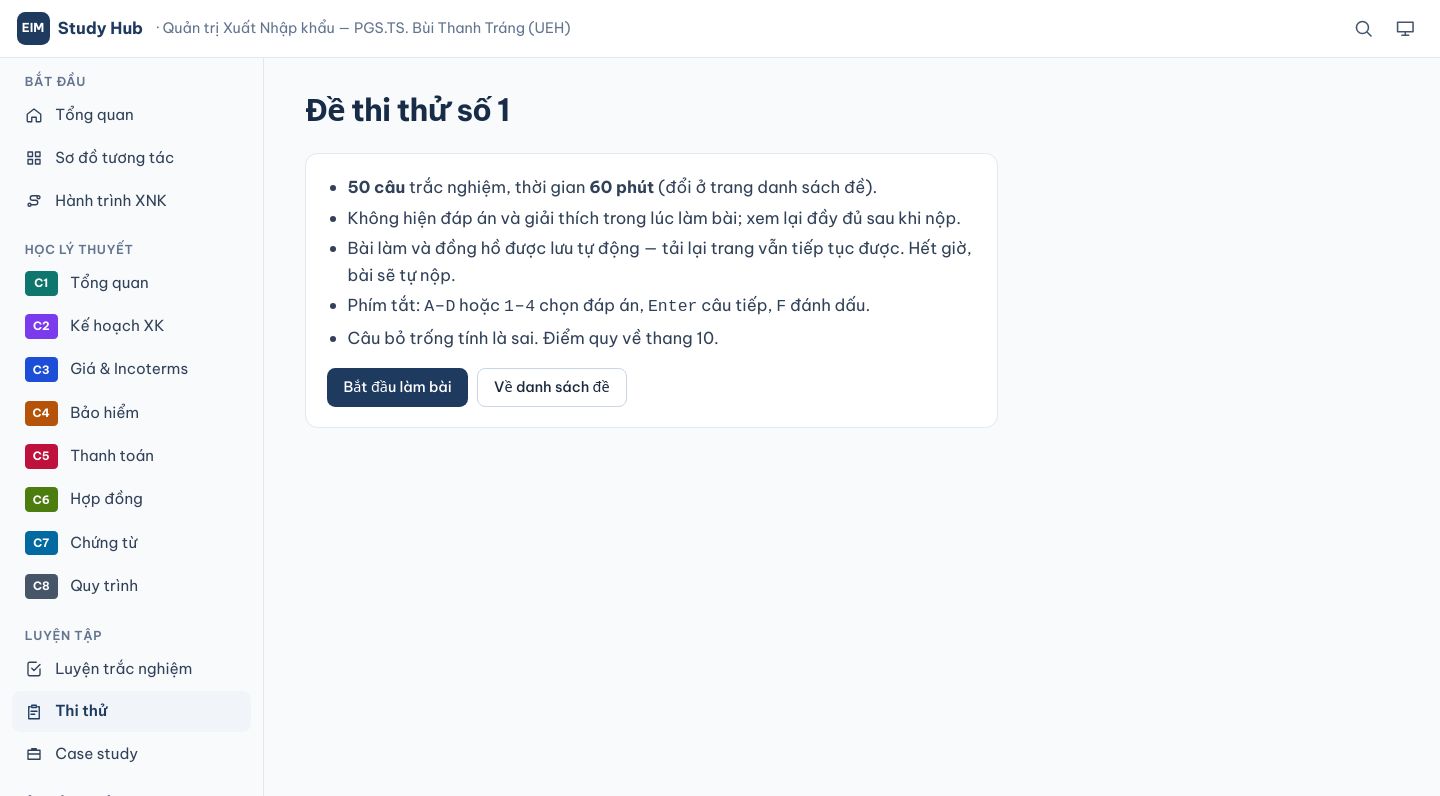
Scenario: mock exam flow › starts, autosaves answers, confirms an early submit and shows the results
Click the button "Bắt đầu làm bài" at x=398, y=387, box [327,368,468,407]
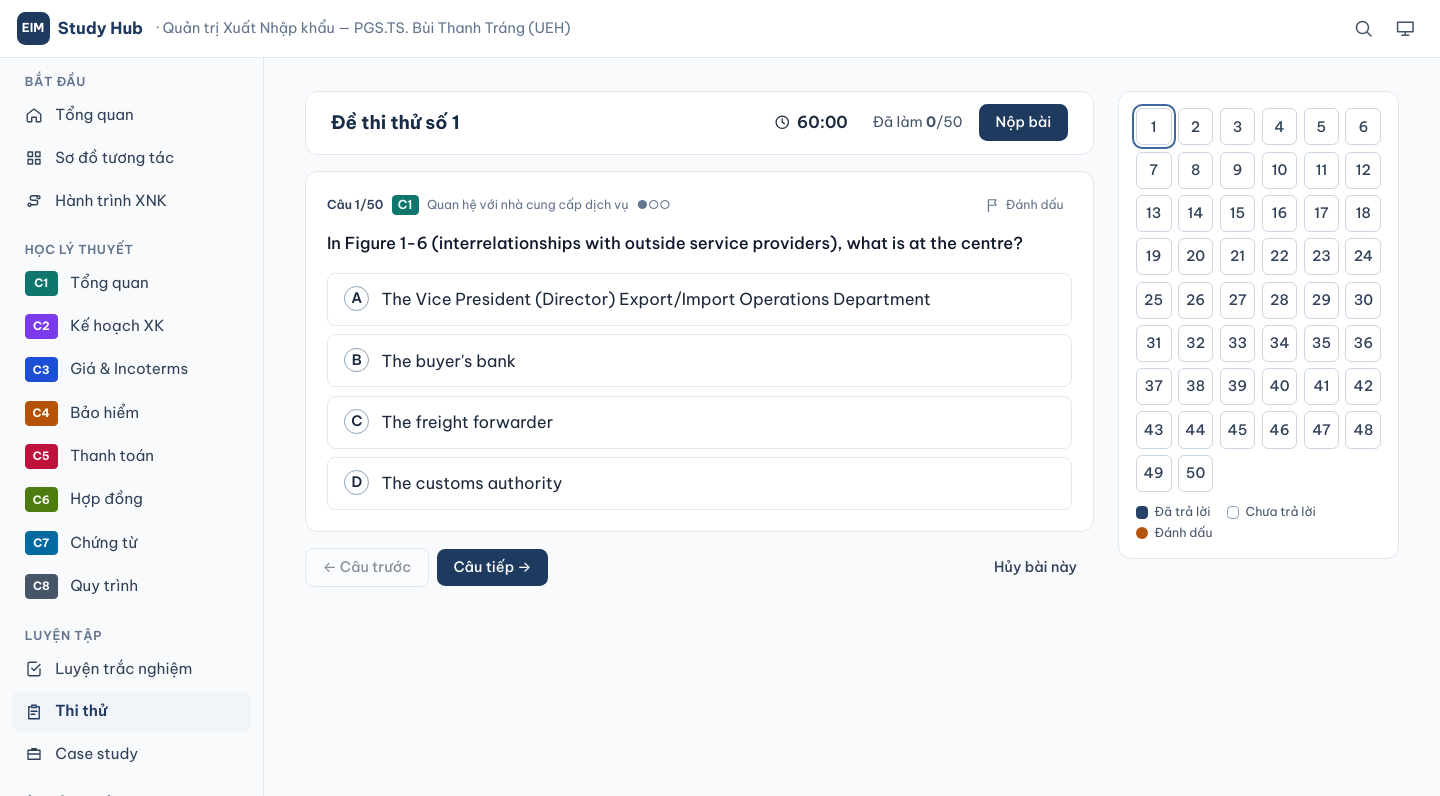
expect the element showing "60:00" is shown: met, box [774,112,848,132]
Answer Q1 with the keyboard, then move on with Enter.
Press a
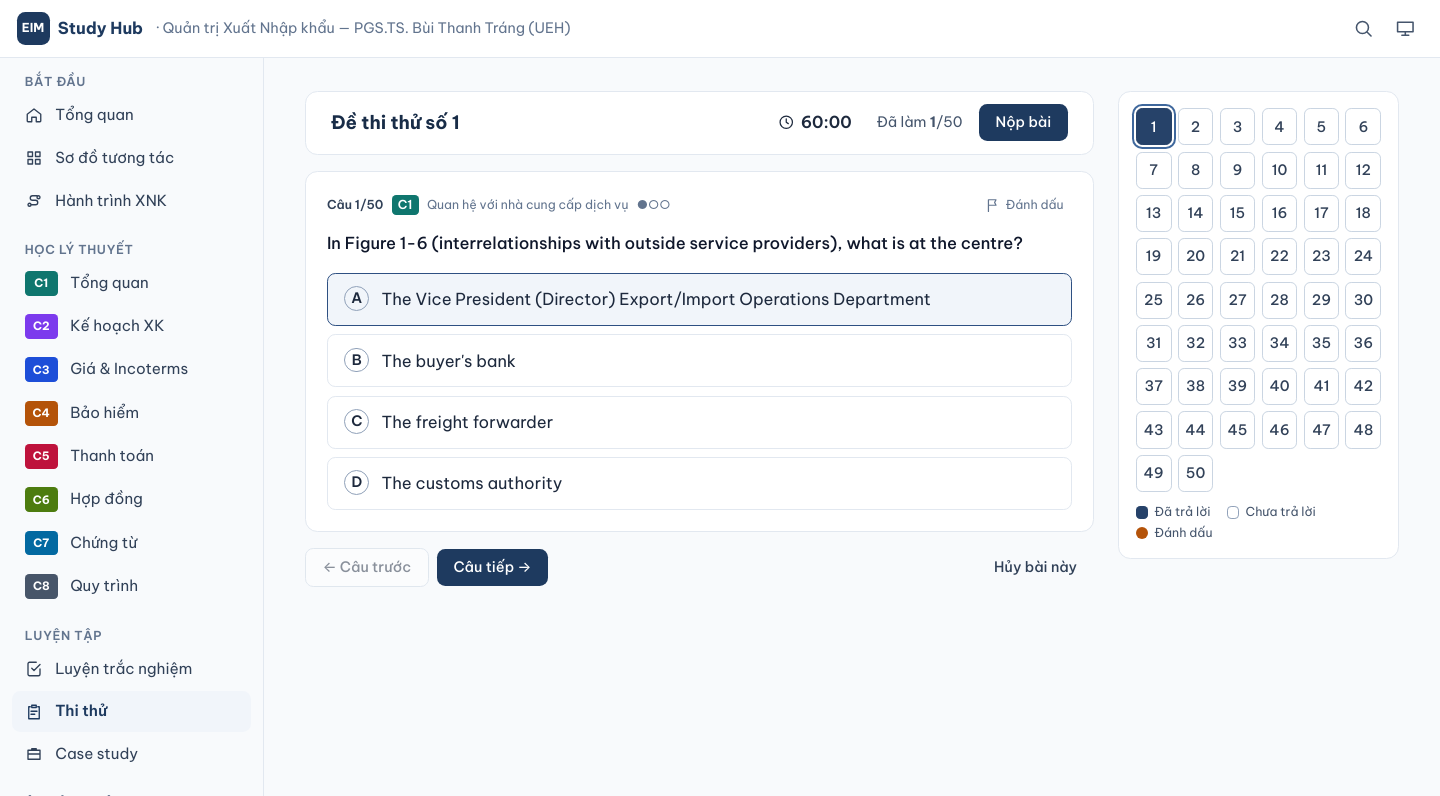
Press Enter
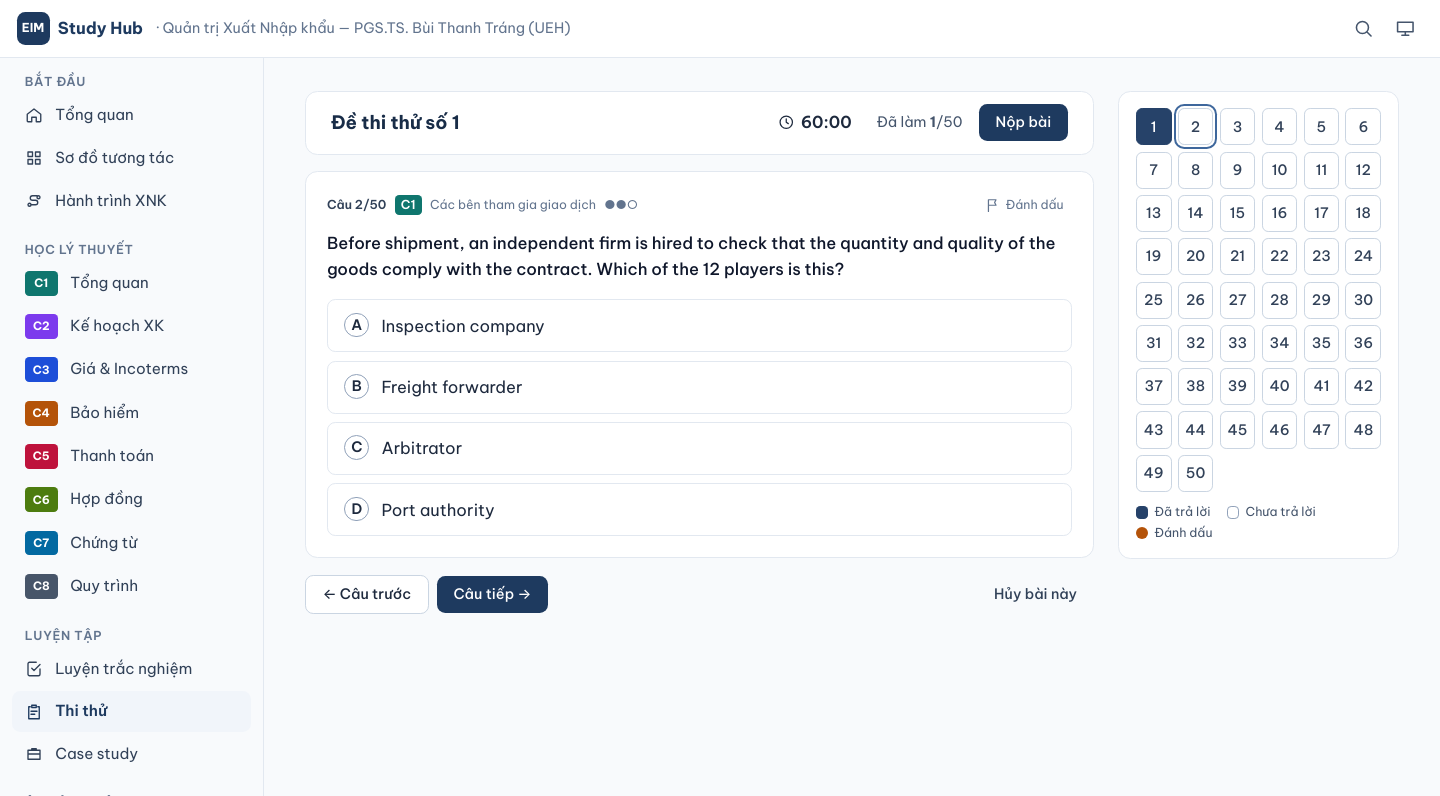
expect the text "Câu 2/50" is shown: met, box [327,197,386,213]
Early submit asks for confirmation (49 unanswered).
Click the button "Nộp bài" at x=1023, y=123, box [979,104,1068,141]
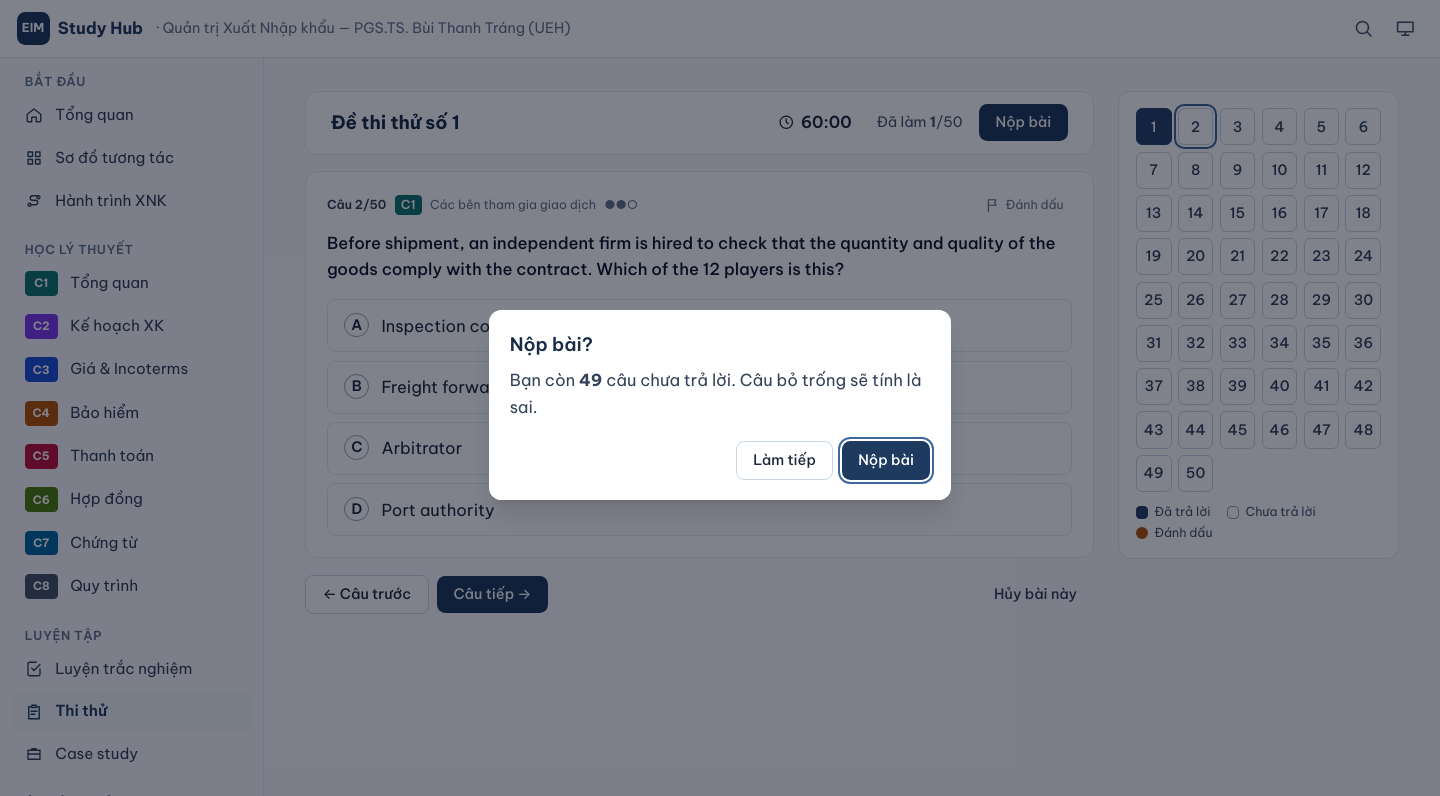
expect the dialog "Nộp bài?" shows "49": met, box [579,369,602,390]
Click the button "Nộp bài" at x=886, y=460, box [842,441,930,480]
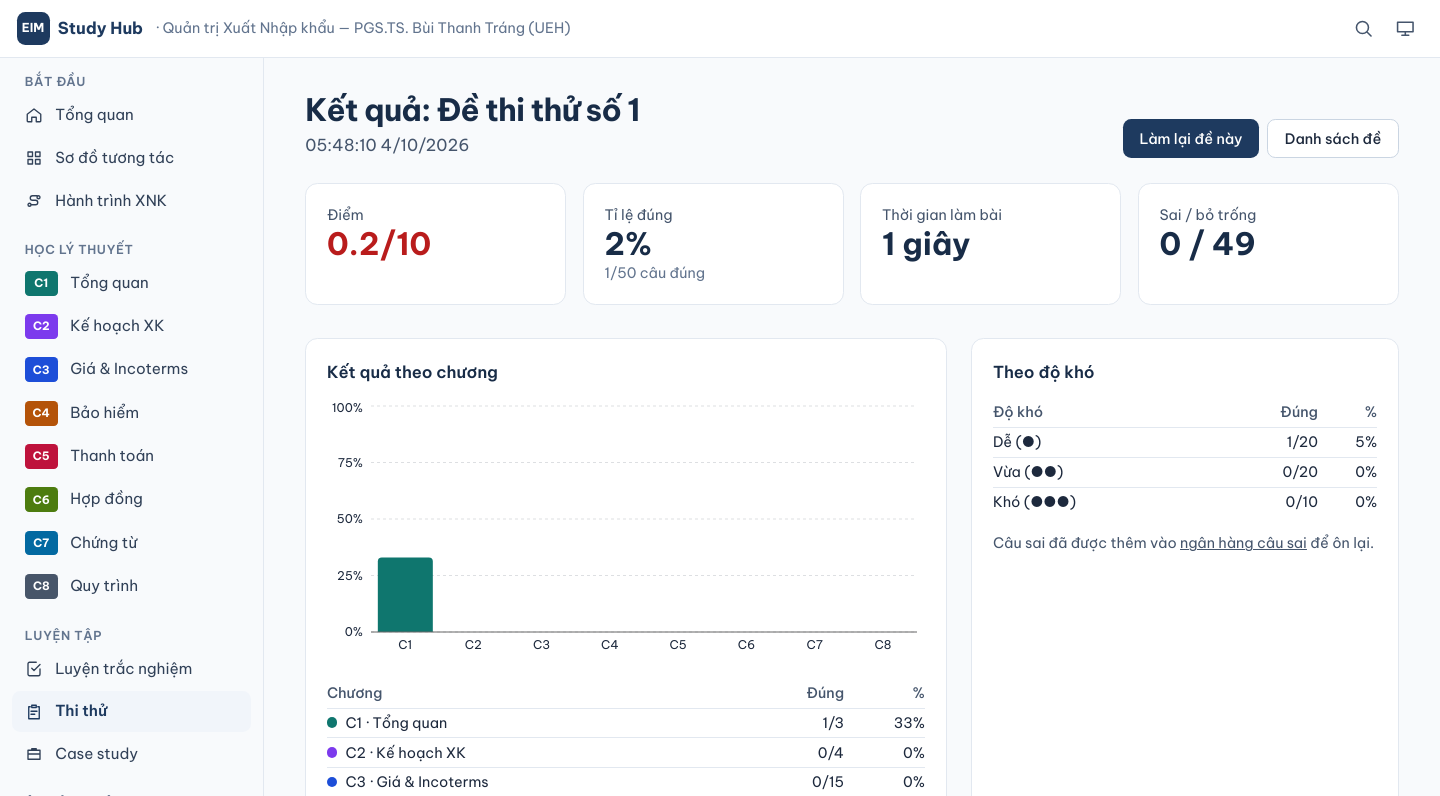
expect the heading "Kết quả: Đề thi thử số 1" is shown: met, box [305,91,640,128]
